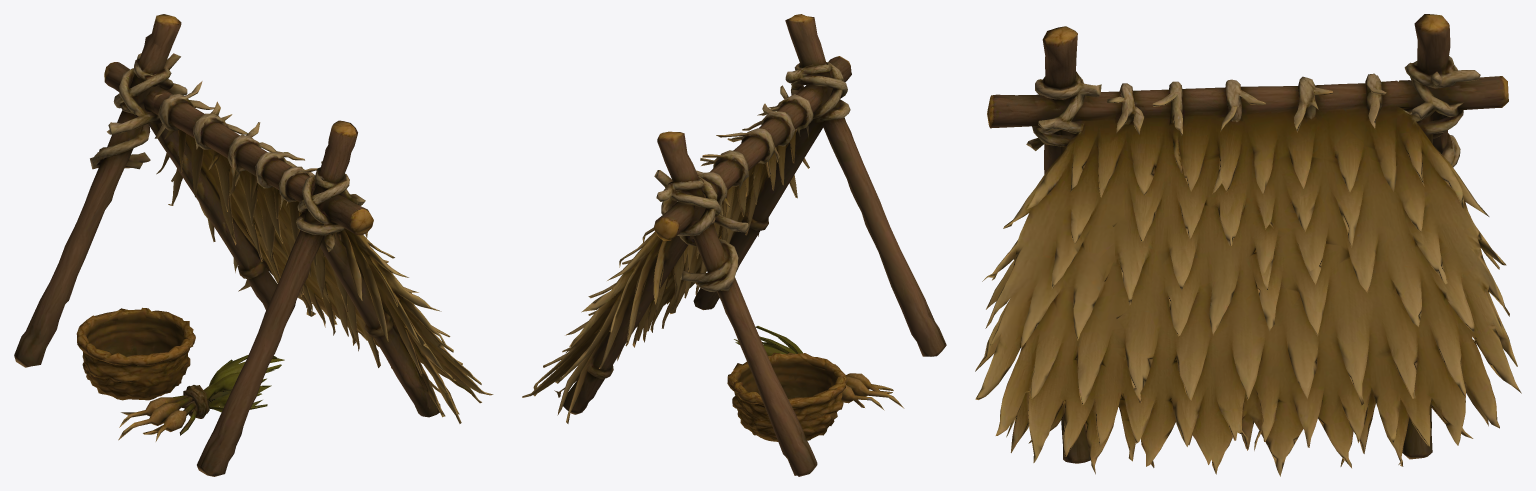
File: Foraging Tent (West African).fbx
3 views of the same model, side by side, from view 1: azimuth 30°, elevation 25°; view 2: azimuth 150°, elevation 25°; view 3: azimuth 270°, elevation 25° (orthographic). The views are drawn at different scales.
Visible parts, largest first — view 1: tripo_node_8543cce0; view 2: tripo_node_8543cce0; view 3: tripo_node_8543cce0.
Boxes of the visible parts, left/top/right/bottom form: tripo_node_8543cce0: left=14, top=14, right=493, bottom=476; tripo_node_8543cce0: left=522, top=14, right=946, bottom=476; tripo_node_8543cce0: left=975, top=14, right=1521, bottom=476.
Size of the model in its own units: 0.7513 by 0.7676 by 1.
